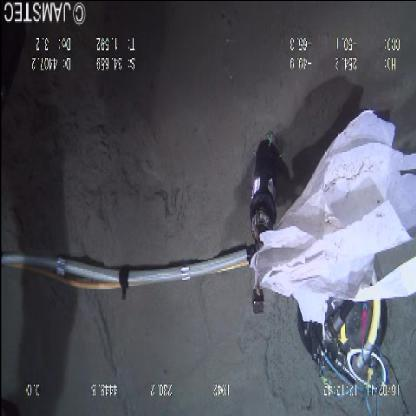Rov: (290, 300, 396, 414)
